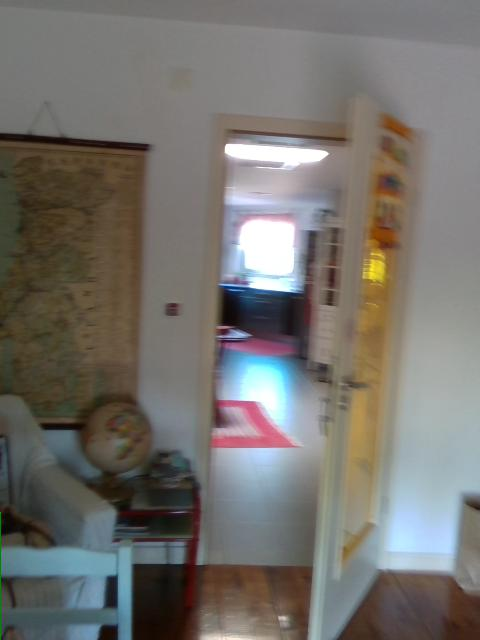semi_door: (194, 84, 422, 639)
